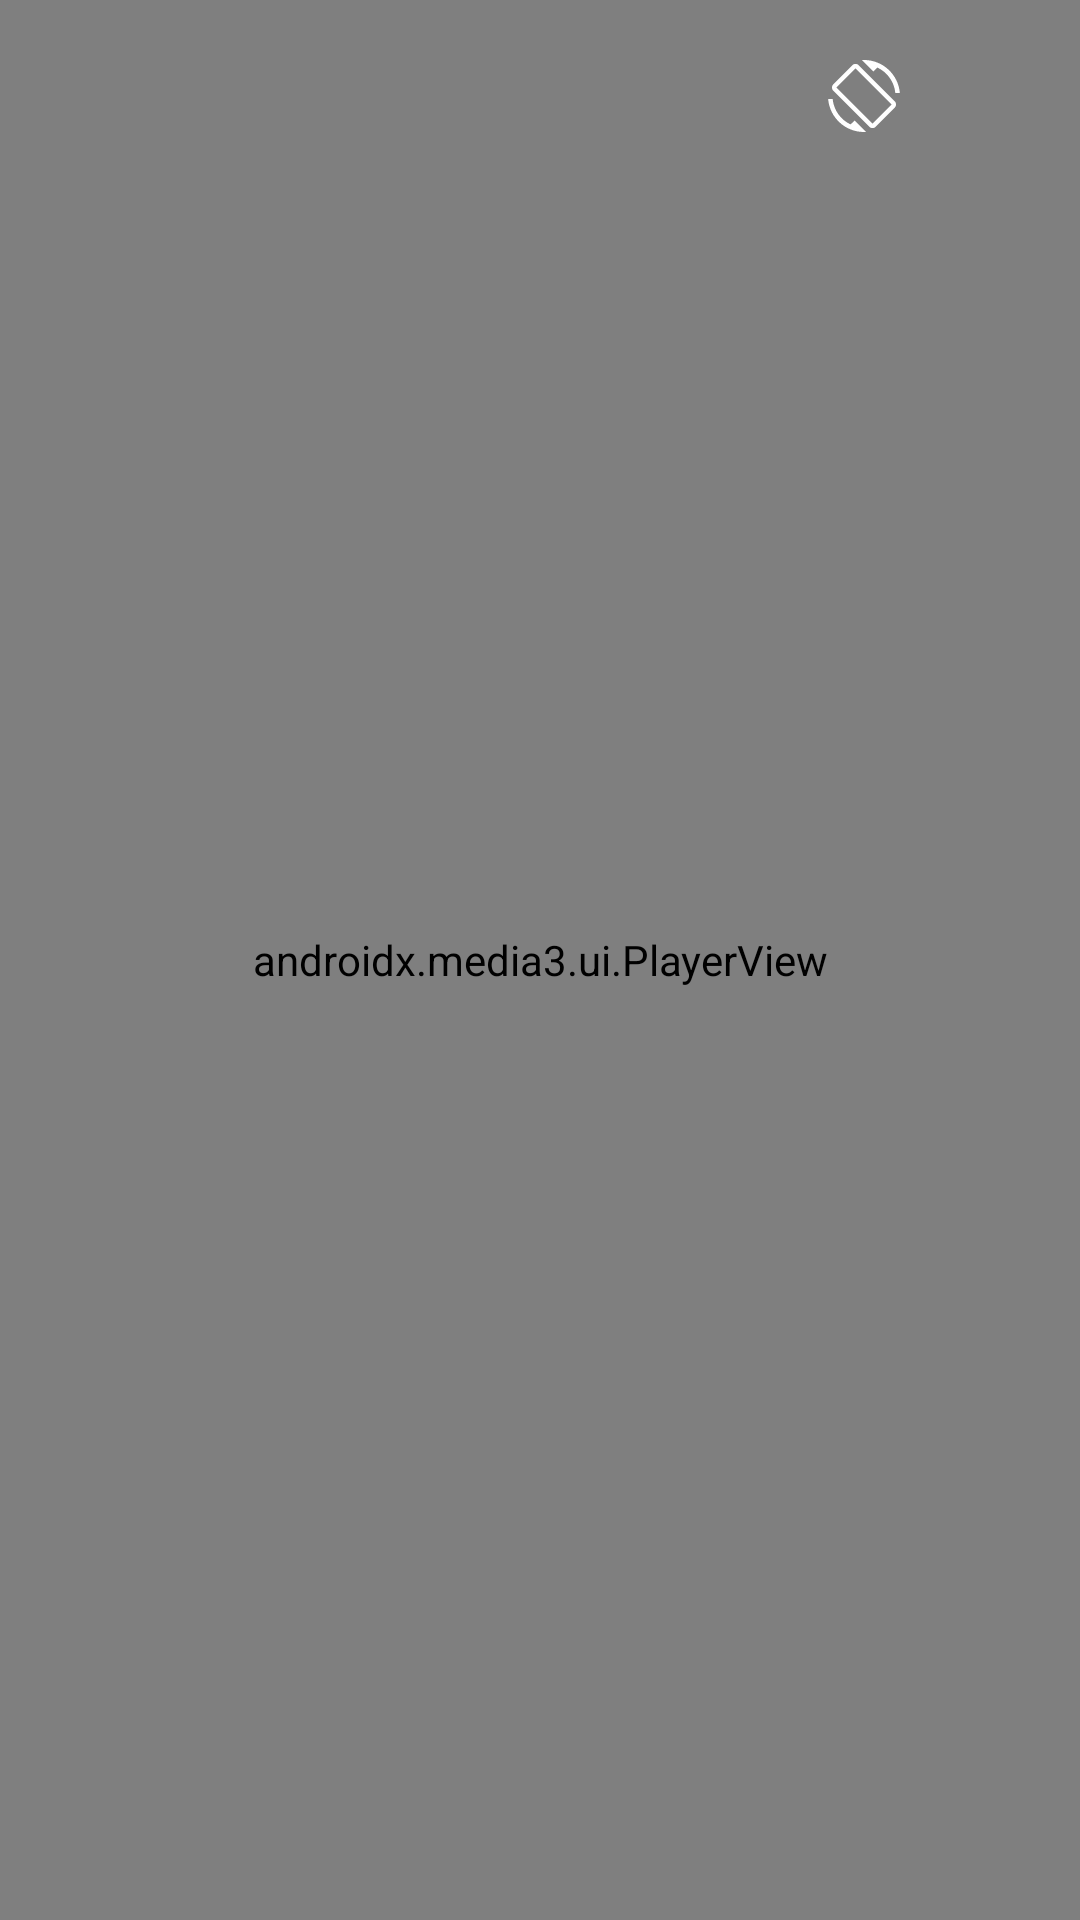

Icons on this 1080px x 1920px Android screen, each with the point to tap as (x=x, y=y):
Toggle Orientation: (x=864, y=96)
